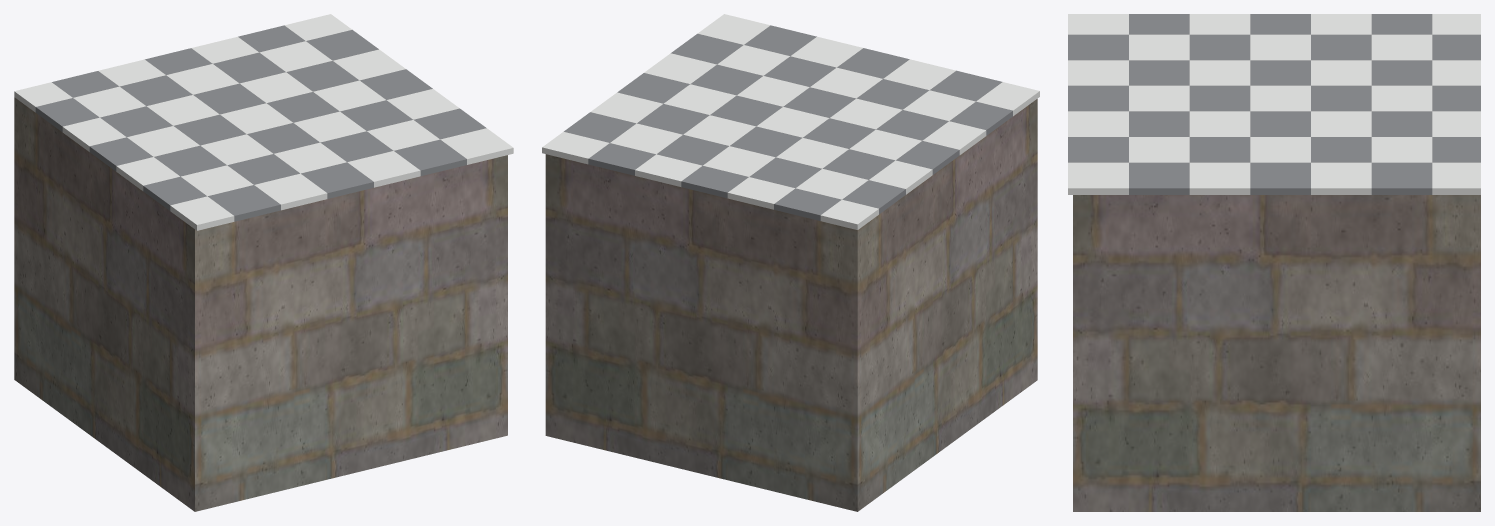
File: floor_tile_g_e30_0_30_0.glb
3 views of the same model, side by side, from view 1: azimuth 30°, elevation 25°; view 2: azimuth 150°, elevation 25°; view 3: azimuth 270°, elevation 25° (orthographic). The views are drawn at different scales.
Parts seen in each view (by area): view 1: floor_tile_g_e30_0_30_0_plinth, floor_tile_g_e30_0_30_0_tile, floor_tile_g_e30_0_30_0_slate; view 2: floor_tile_g_e30_0_30_0_plinth, floor_tile_g_e30_0_30_0_tile, floor_tile_g_e30_0_30_0_slate; view 3: floor_tile_g_e30_0_30_0_plinth, floor_tile_g_e30_0_30_0_tile, floor_tile_g_e30_0_30_0_slate.
Boxes of the visible parts, left/top/right/bottom form: floor_tile_g_e30_0_30_0_plinth: left=14, top=97, right=507, bottom=511; floor_tile_g_e30_0_30_0_tile: left=14, top=14, right=513, bottom=230; floor_tile_g_e30_0_30_0_slate: left=35, top=25, right=486, bottom=221; floor_tile_g_e30_0_30_0_plinth: left=545, top=99, right=1037, bottom=511; floor_tile_g_e30_0_30_0_tile: left=542, top=14, right=1039, bottom=229; floor_tile_g_e30_0_30_0_slate: left=564, top=25, right=1012, bottom=220; floor_tile_g_e30_0_30_0_plinth: left=1073, top=195, right=1480, bottom=511; floor_tile_g_e30_0_30_0_tile: left=1068, top=14, right=1480, bottom=194; floor_tile_g_e30_0_30_0_slate: left=1068, top=14, right=1480, bottom=194.
Bounding box in the file's own units: 1.7 × 1.48 × 1.7.
Materials: 3 (1 with a texture image).
